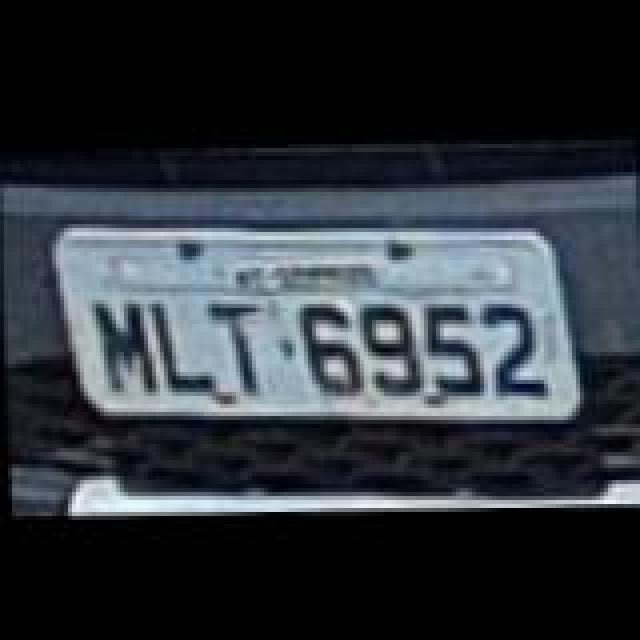2: (480, 298, 548, 398)
5: (416, 296, 484, 396)
6: (292, 294, 360, 394)
9: (356, 298, 424, 394)
L: (148, 296, 216, 396)
M: (92, 294, 160, 394)
T: (204, 290, 272, 390)
